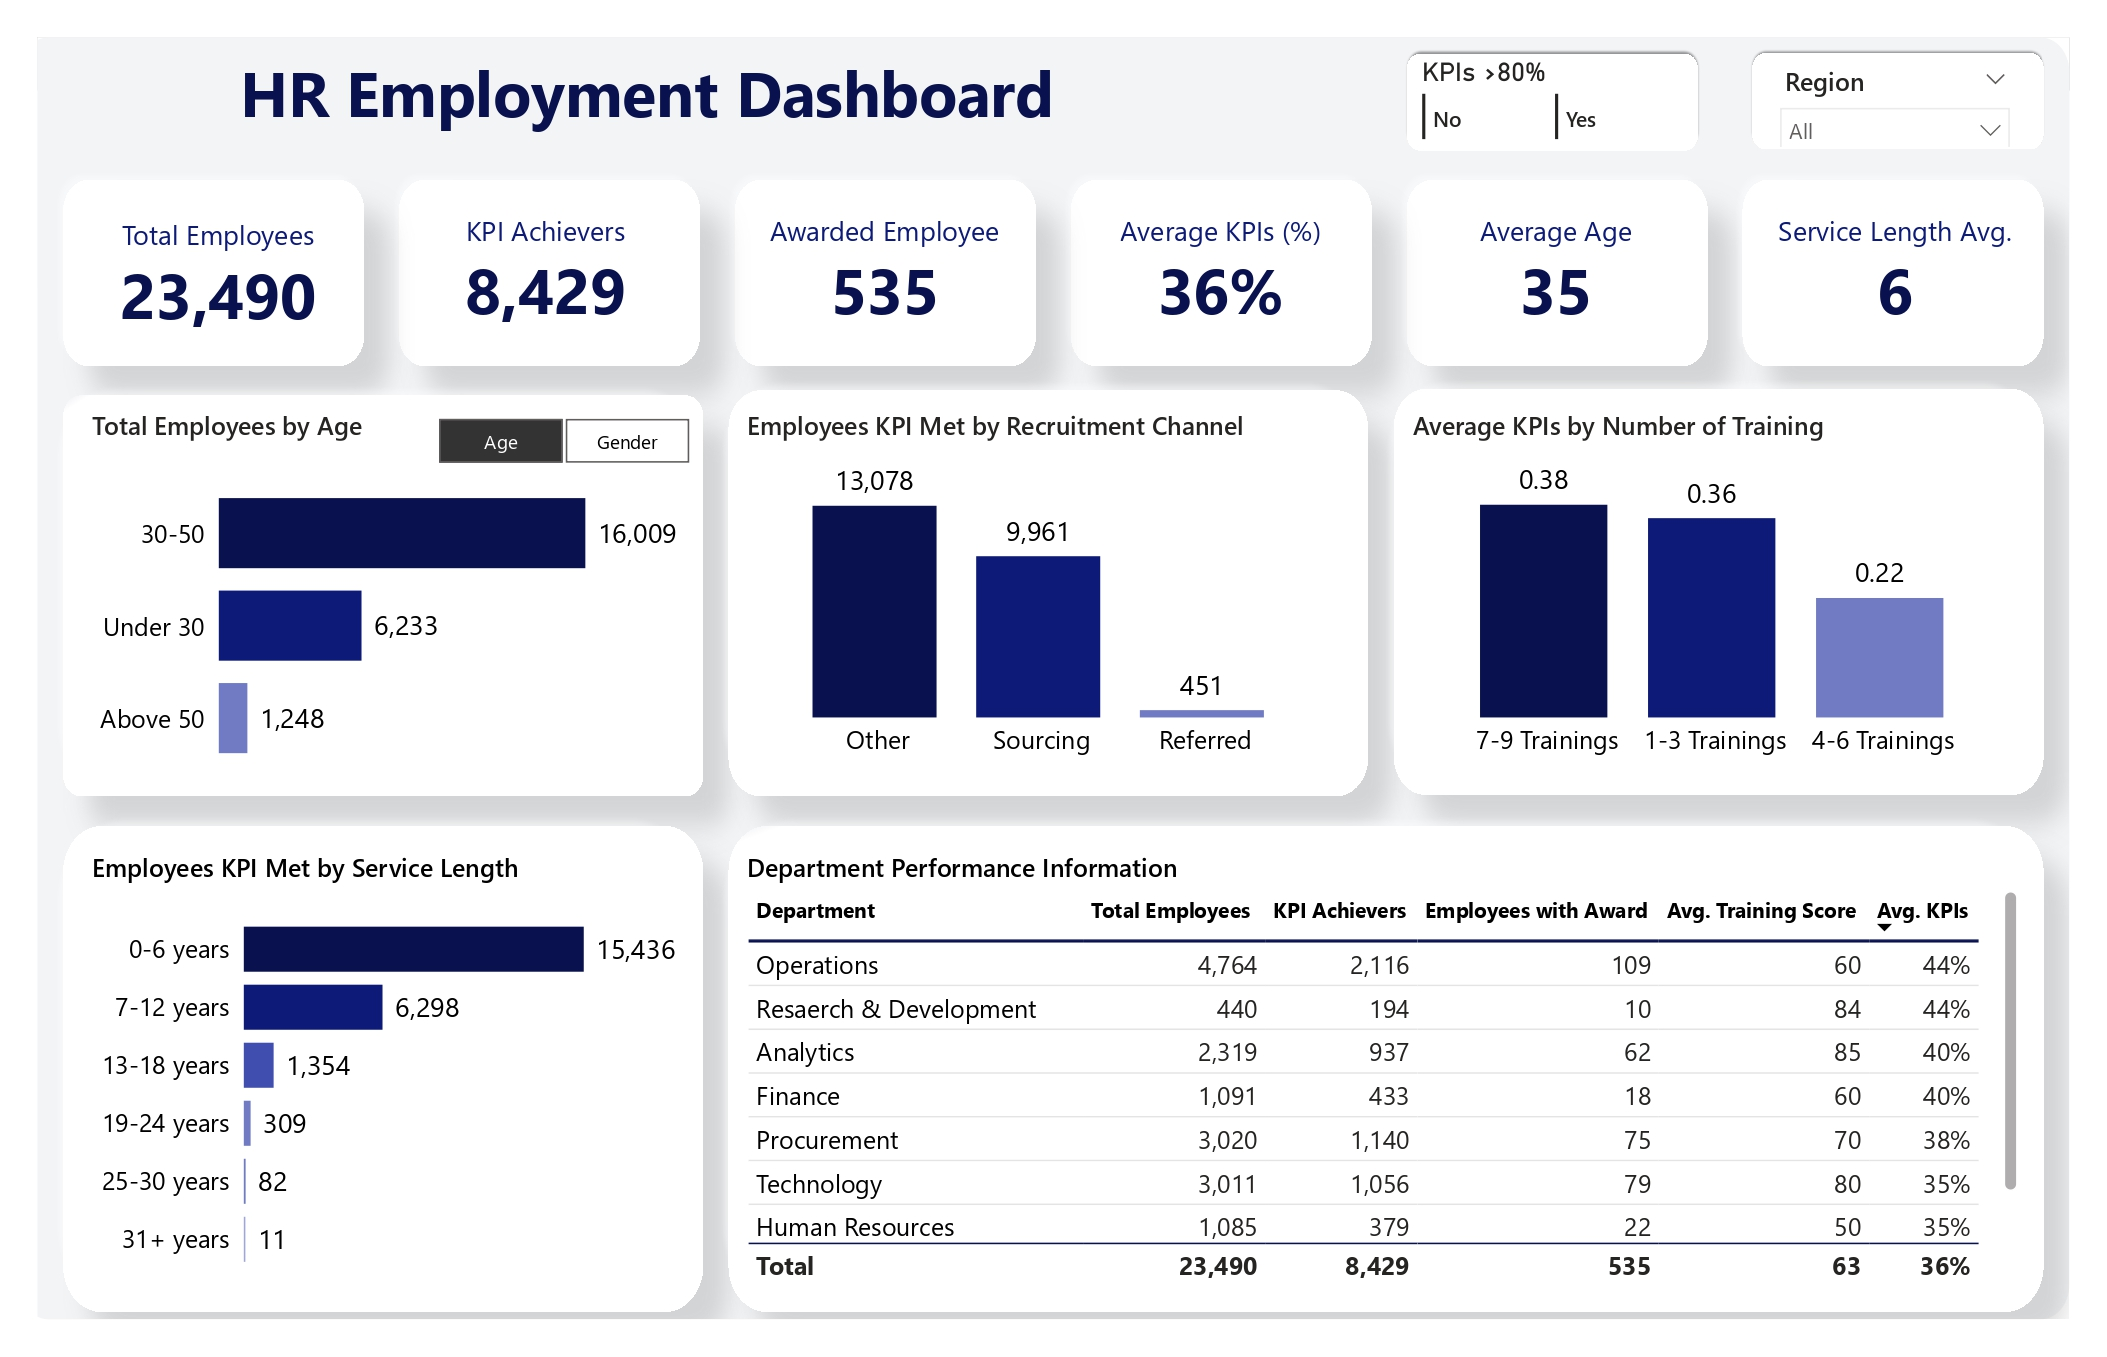

The dashboard page shown, as its layout file describes it:
{"tool":"powerbi","page":{"name":"Page 1","canvas":[1300,820],"ordinal":0},"visuals":[{"type":"barChart","fields":{"Category":["HR DATA CLEAN.Age Group"],"Y":["All Measures.Total Employees"]},"box":[29.8,237.1,384.7,252],"z":0},{"type":"slicer","fields":{"Values":["Employee Demographic.Employee Demographic"]},"box":[231.1,237.1,210.2,41.7],"z":1000},{"type":"tableEx","title":"Department Performance Information","fields":{"Values":["HR DATA CLEAN.Department","All Measures.Total Employees","All Measures.Employees with KPI>80%","All Measures.Employees with Award","All Measures.Average Training Score","All Measures.Average KPIs"]},"box":[448.8,520.3,823,283.3],"z":2000},{"type":"columnChart","title":"Employees KPI Met by Recruitment Channel","fields":{"Category":["HR DATA CLEAN.Recruitment Channel"],"Y":["All Measures.Total Employees"]},"box":[448.8,237.1,387.6,232.6],"z":3000},{"type":"barChart","title":"Employees KPI Met by Service Length","fields":{"Category":["HR DATA CLEAN.Service Length Range"],"Y":["All Measures.Total Employees"]},"box":[29.8,520.3,384.7,283.3],"z":4000},{"type":"columnChart","title":"Average KPIs by Number of Training ","fields":{"Category":["HR DATA CLEAN.No Training Range"],"Y":["Avg(HR DATA CLEAN.KPIs Met>80%)"]},"box":[875.2,237.1,396.6,232.6],"z":5000},{"type":"cardVisual","fields":{"Data":["All Measures.Total Employees"]},"box":[29.8,95.4,171.5,113.3],"z":6000},{"type":"cardVisual","fields":{"Data":["All Measures.Employees with KPI>80%"]},"box":[235.6,89.5,178.9,119.3],"z":7000},{"type":"cardVisual","fields":{"Data":["All Measures.Employees with Award"]},"box":[448.8,89.5,186.4,119.3],"z":8000},{"type":"cardVisual","fields":{"Data":["All Measures.Average KPIs (%)"]},"box":[666.4,89.5,181.9,119.3],"z":9000},{"type":"cardVisual","fields":{"Data":["All Measures.Average Age"]},"box":[881.1,89.5,180.4,119.3],"z":10000},{"type":"cardVisual","fields":{"Data":["All Measures.Avg. Length of Service"]},"box":[1095.8,89.5,184.9,119.3],"z":11000},{"type":"slicer","fields":{"Values":["HR DATA CLEAN.Region"]},"box":[1104.8,11.9,167,58.1],"z":12000},{"type":"card","fields":{"Values":["All Measures.InteractiveTitle"]},"box":[16.4,0,758.9,70.1],"z":13000},{"type":"advancedSlicerVisual","fields":{"Values":["HR DATA CLEAN.KPIs >80%"]},"box":[881.1,11.9,180.4,58.1],"z":14000}]}

Visuals, with their boxes on the page's 1300x820 design canvas (x1, y1, x2, y2). These are canvas units, not pixel positions in the 2107x1357 screenshot, which may show the page scaled, cropped or inside an application window:
barChart - HR DATA CLEAN.Age Group x All Measures.Total Employees: pyautogui.locateOnScreen(30, 237, 414, 489)
slicer - Employee Demographic.Employee Demographic: pyautogui.locateOnScreen(231, 237, 441, 279)
"Department Performance Information" tableEx: pyautogui.locateOnScreen(449, 520, 1272, 804)
"Employees KPI Met by Recruitment Channel" columnChart: pyautogui.locateOnScreen(449, 237, 836, 470)
"Employees KPI Met by Service Length" barChart: pyautogui.locateOnScreen(30, 520, 414, 804)
"Average KPIs by Number of Training " columnChart: pyautogui.locateOnScreen(875, 237, 1272, 470)
cardVisual - All Measures.Total Employees: pyautogui.locateOnScreen(30, 95, 201, 209)
cardVisual - All Measures.Employees with KPI>80%: pyautogui.locateOnScreen(236, 90, 414, 209)
cardVisual - All Measures.Employees with Award: pyautogui.locateOnScreen(449, 90, 635, 209)
cardVisual - All Measures.Average KPIs (%): pyautogui.locateOnScreen(666, 90, 848, 209)
cardVisual - All Measures.Average Age: pyautogui.locateOnScreen(881, 90, 1062, 209)
cardVisual - All Measures.Avg. Length of Service: pyautogui.locateOnScreen(1096, 90, 1281, 209)
slicer - HR DATA CLEAN.Region: pyautogui.locateOnScreen(1105, 12, 1272, 70)
card - All Measures.InteractiveTitle: pyautogui.locateOnScreen(16, 0, 775, 70)
advancedSlicerVisual - HR DATA CLEAN.KPIs >80%: pyautogui.locateOnScreen(881, 12, 1062, 70)
